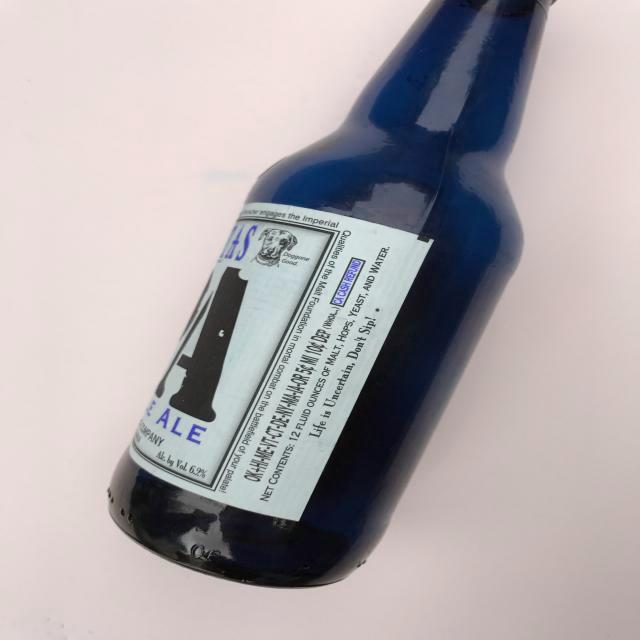glass: (96, 0, 565, 588)
